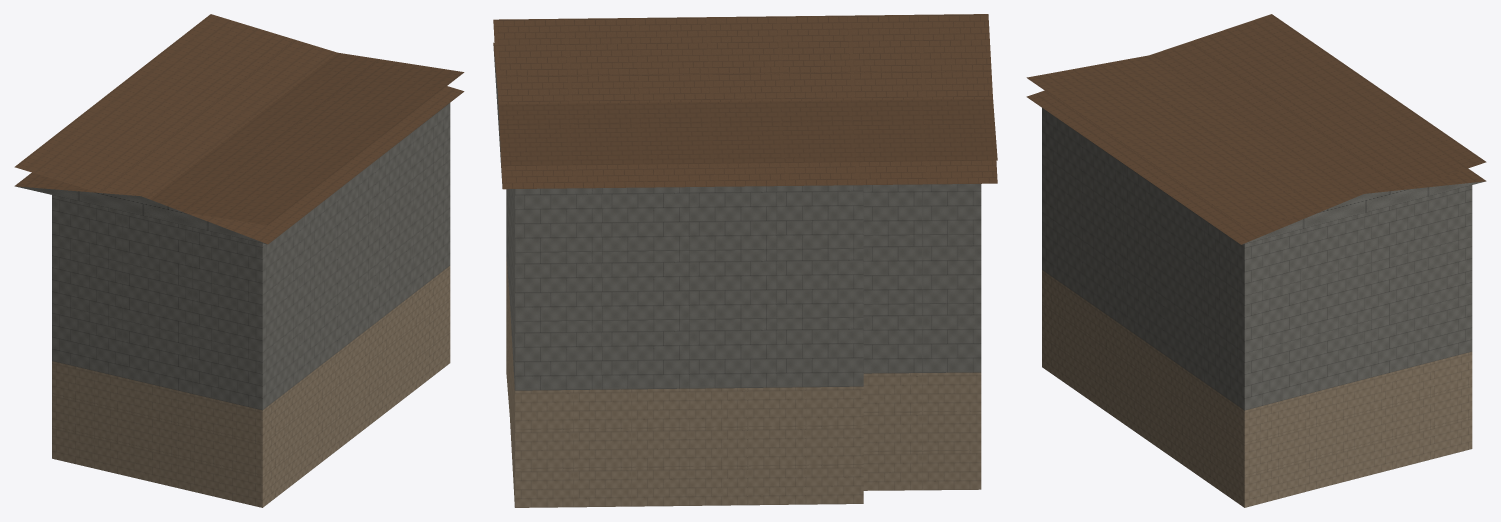
The model's file is bld_c7_16_428.gltf.
3 views of the same model, side by side, from view 1: azimuth 30°, elevation 25°; view 2: azimuth 150°, elevation 25°; view 3: azimuth 270°, elevation 25° (orthographic). The views are drawn at different scales.
Visible parts, largest first — view 1: bld_c7_16_428; view 2: bld_c7_16_428; view 3: bld_c7_16_428.
Boxes of the visible parts, box(x1,y1,x2,y2) form: bld_c7_16_428: box(14, 14, 464, 507); bld_c7_16_428: box(493, 14, 997, 507); bld_c7_16_428: box(1026, 14, 1486, 507).
Size of the model in its own units: 23.79 by 15.1 by 21.87.
4 materials, 4 textured.
